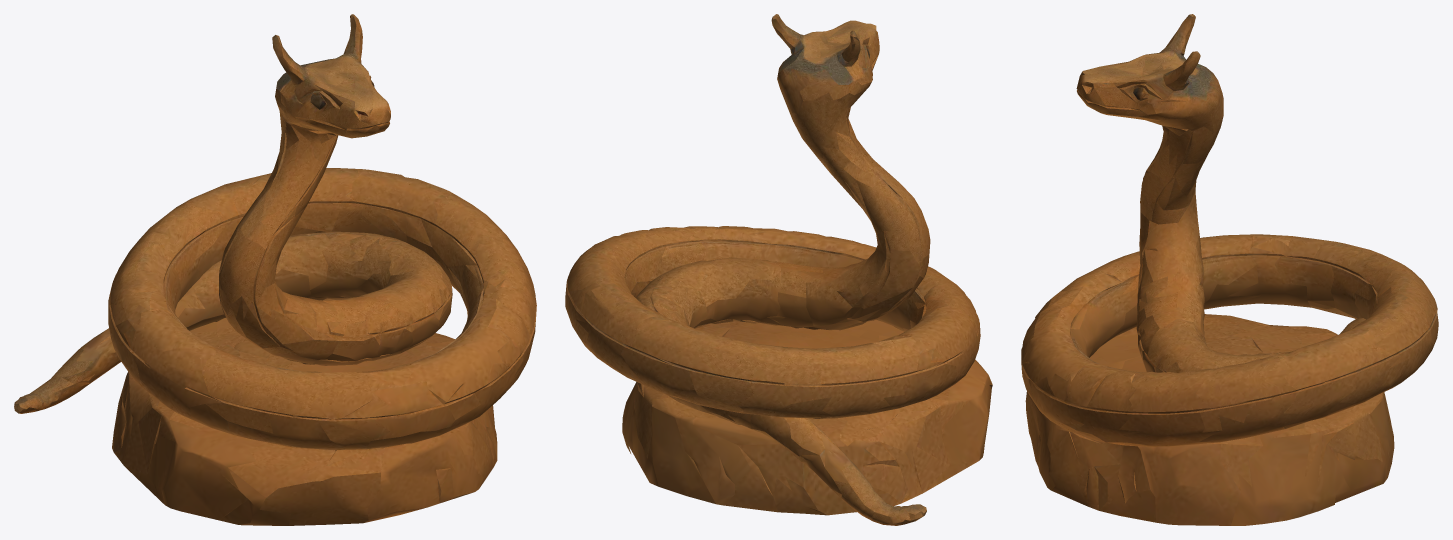
The model's file is viper.glb.
The picture shows the model from 3 angles, left to right: view 1: azimuth 30°, elevation 25°; view 2: azimuth 150°, elevation 25°; view 3: azimuth 270°, elevation 25°; orthographic projection. The views are drawn at different scales.
Parts seen in each view (by area): view 1: mesh_node; view 2: mesh_node; view 3: mesh_node.
Part boxes in pixels (bbox=[...]): mesh_node: bbox=[14, 14, 536, 525]; mesh_node: bbox=[565, 14, 992, 525]; mesh_node: bbox=[1021, 14, 1438, 525].
Bounding box in the file's own units: 1.9 × 1.86 × 1.69.
Materials: 1 (1 with a texture image).
